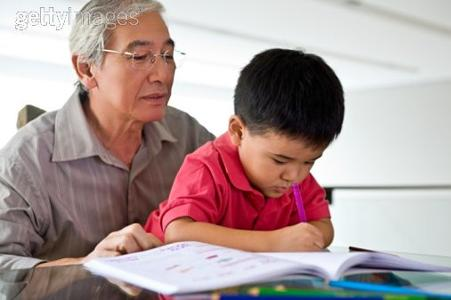person: (138, 50, 345, 253)
